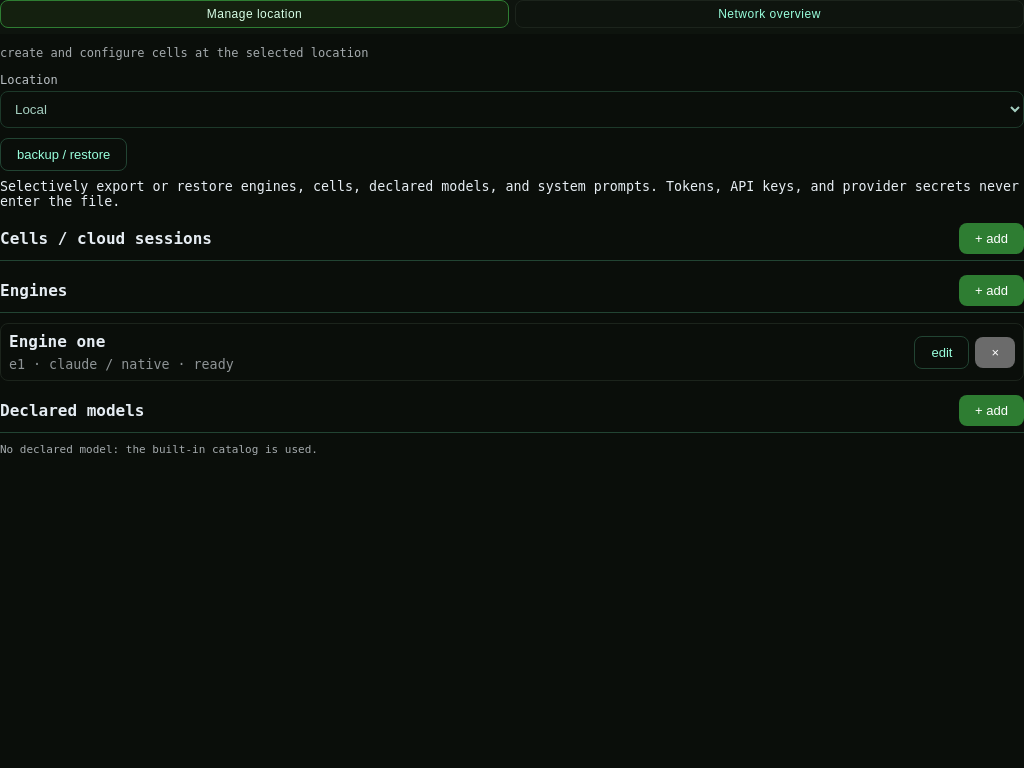
make it mine — il percorso reale › a row with context 512 and output 4096 sends no partial request
Click the button "edit" at coordinates (942, 352), box [914,336,969,369]
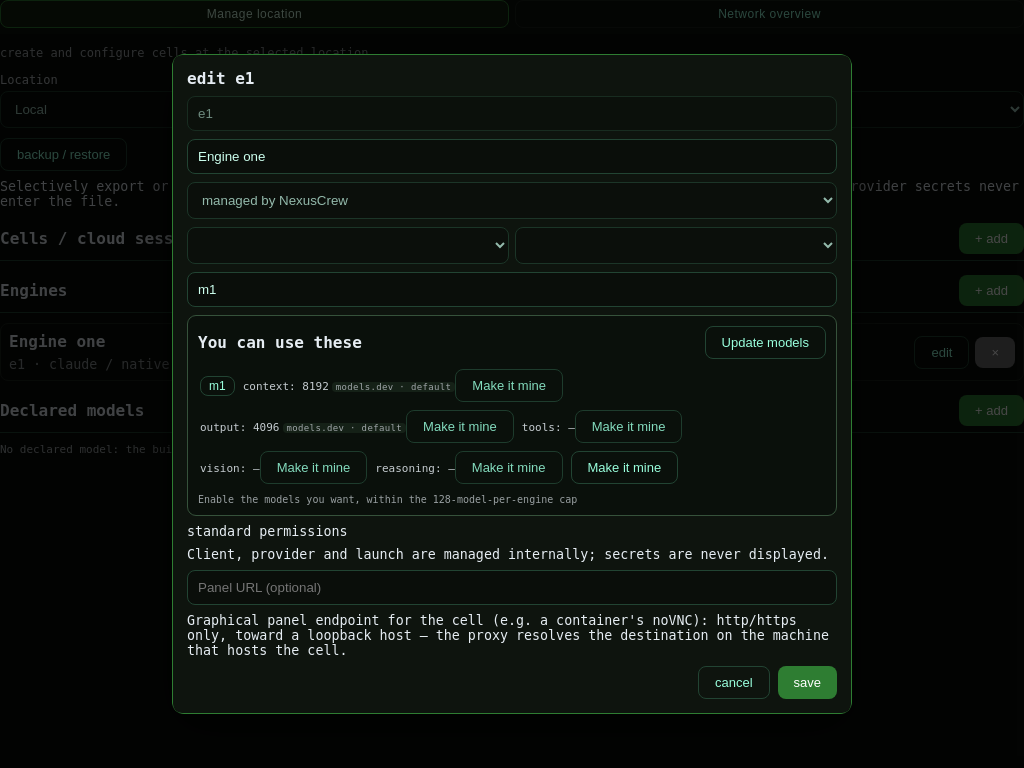
Expected: the element "models" is shown, [187,315,837,516]
Click the button with aria-label "Make it mine: m1" at coordinates (624, 468), box [570,451,678,484]
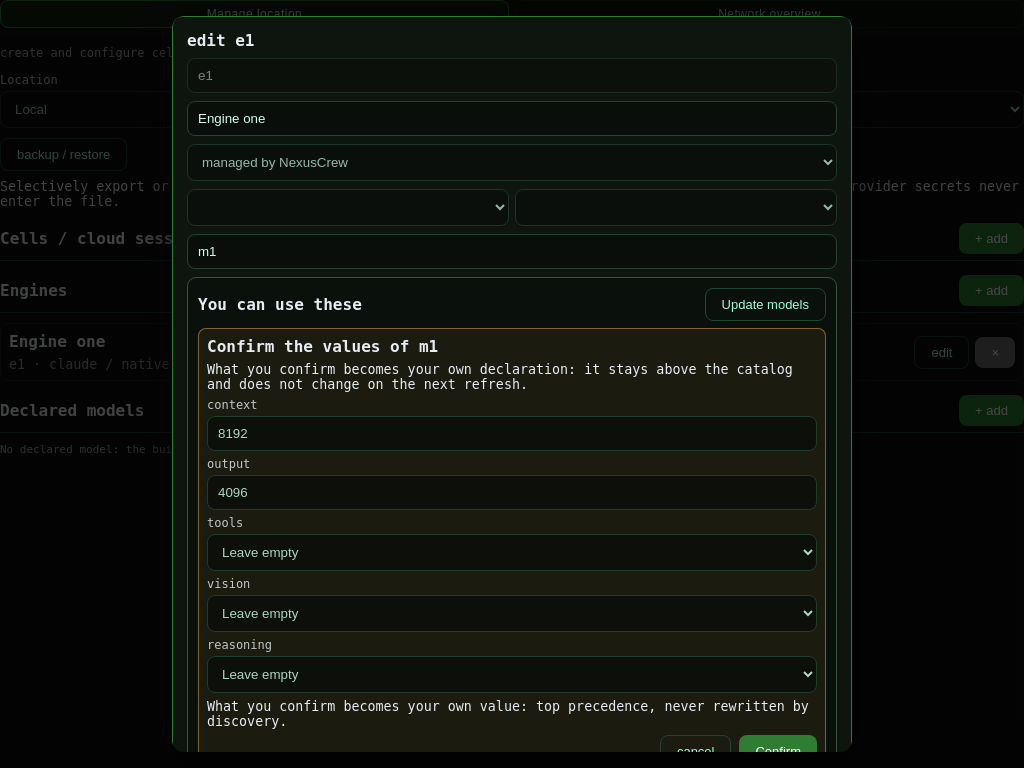
Replace the text in the field labelled "context" with "512" at coordinates (512, 434), box [207,416,817,451]
(page scrolled)
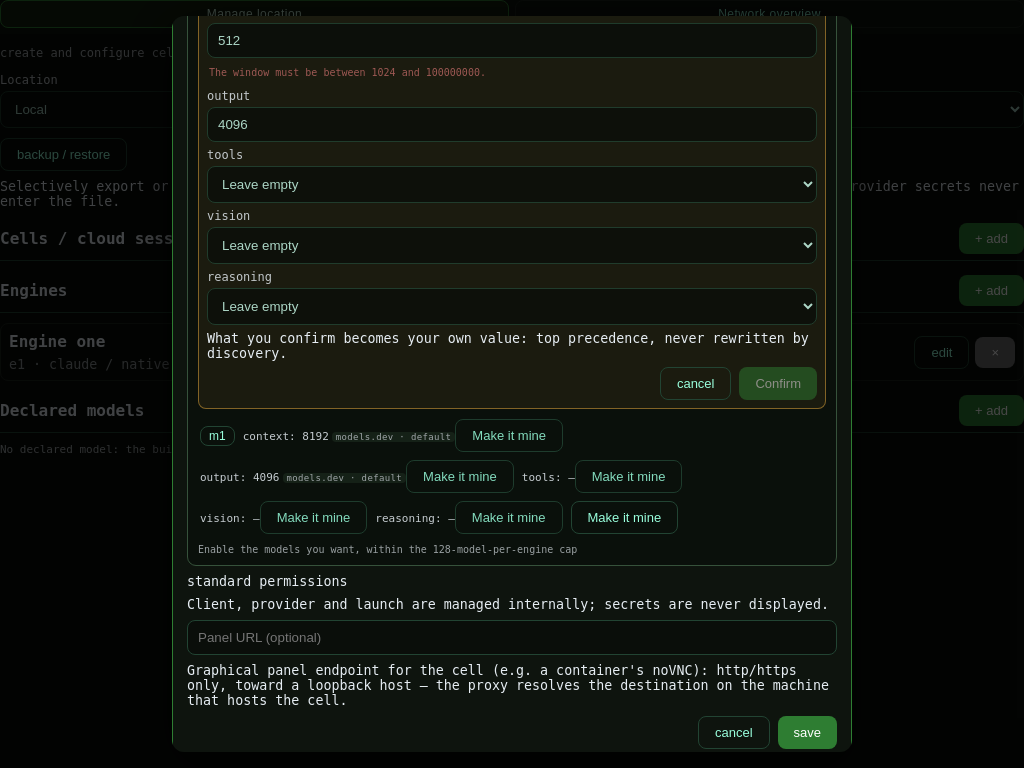
Expected: the button "Confirm" is disabled, [740,367,817,400]
